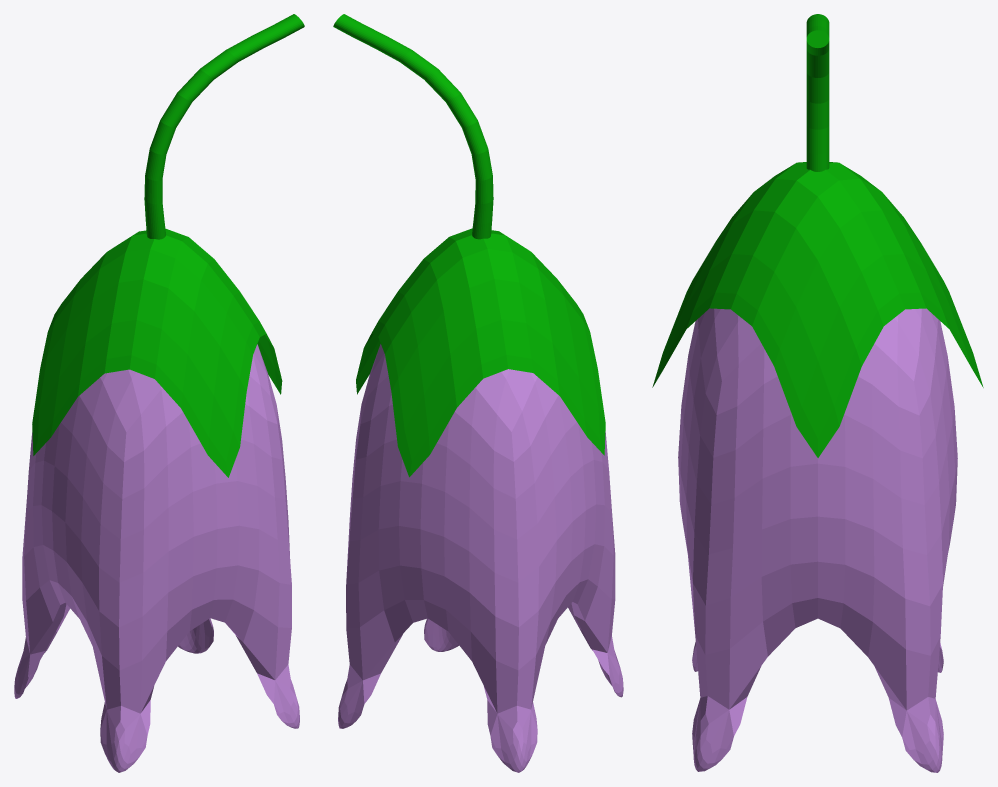
File: ホタルブクロ黄色.fbx
The picture shows the model from 3 angles, left to right: view 1: azimuth 30°, elevation 25°; view 2: azimuth 150°, elevation 25°; view 3: azimuth 270°, elevation 25°; orthographic projection. The views are drawn at different scales.
Visible parts, largest first — view 1: Cube.001, Cube, Cylinder; view 2: Cube.001, Cube, Cylinder; view 3: Cube.001, Cube, Cylinder.
Boxes of the visible parts, bbox=[...] form: Cube.001: bbox=[14, 344, 299, 772]; Cube: bbox=[32, 228, 282, 477]; Cylinder: bbox=[144, 14, 304, 239]; Cube.001: bbox=[338, 344, 623, 772]; Cube: bbox=[356, 228, 605, 477]; Cylinder: bbox=[333, 14, 493, 239]; Cube.001: bbox=[678, 308, 957, 772]; Cube: bbox=[652, 162, 983, 457]; Cylinder: bbox=[806, 14, 829, 171].
Bounding box in the file's own units: 337 × 797 × 311.
